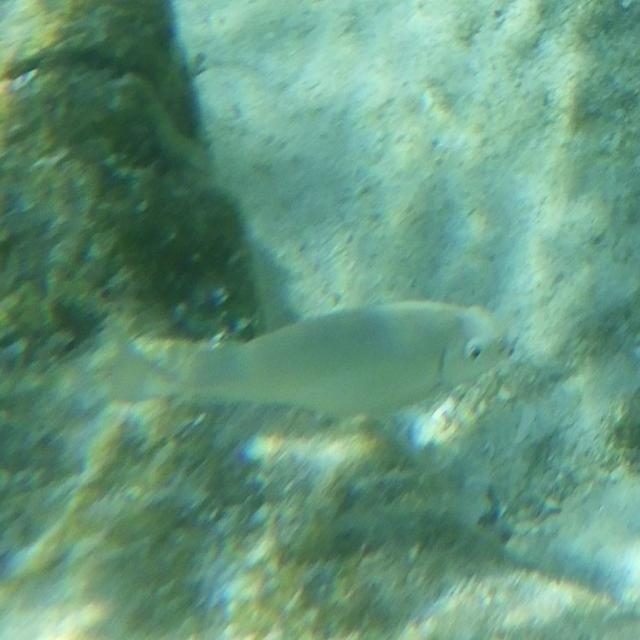Sokar Baligi: (100, 289, 525, 436)
